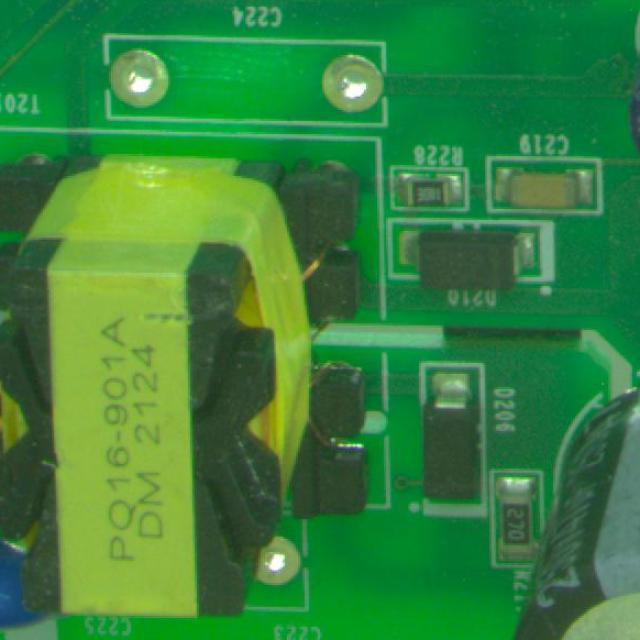Insufficient solder: (108, 27, 180, 124), (308, 45, 392, 120)
